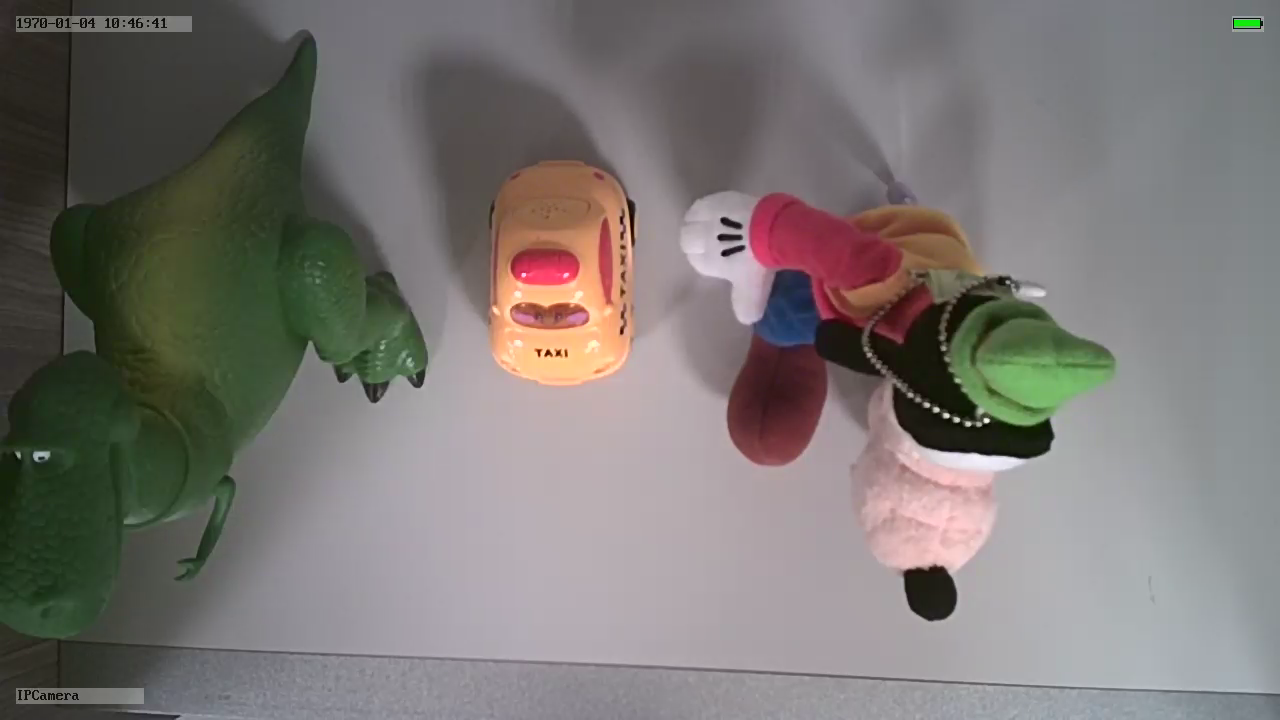goofy: (675, 183, 1116, 624)
